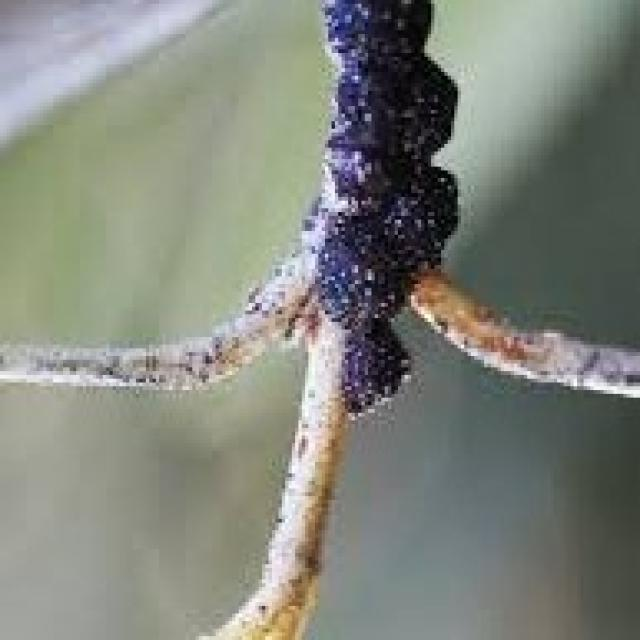BlackScale: (315, 0, 454, 413)
